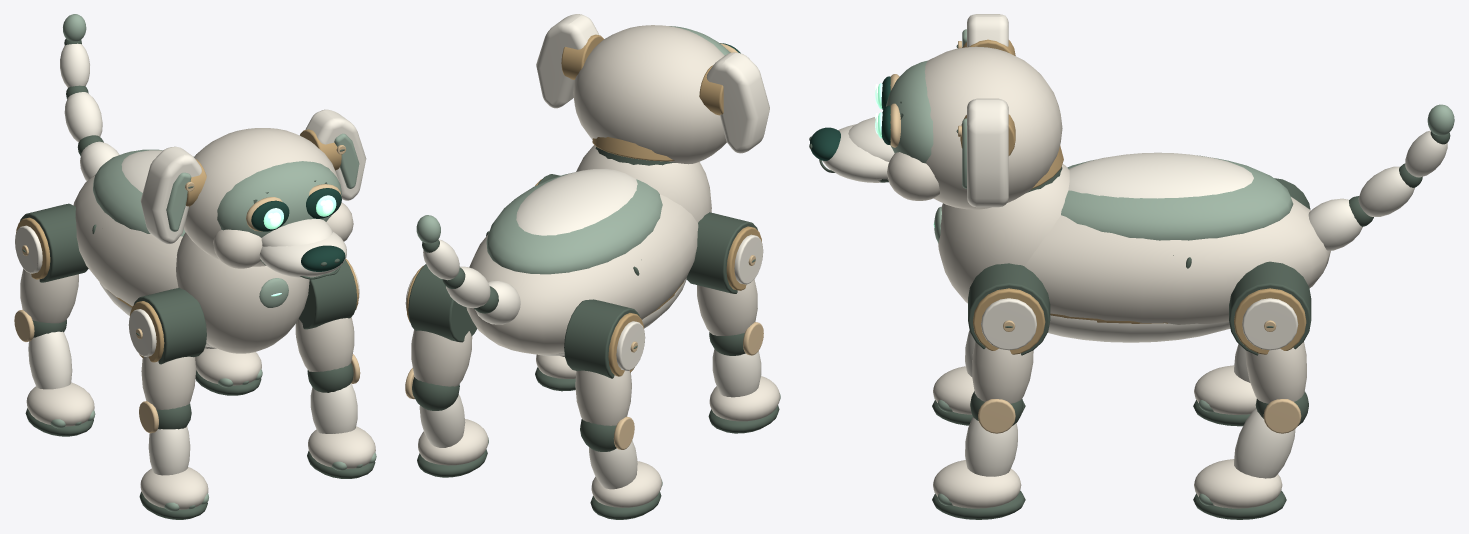
Rendered from robot-dog.glb.
3 views of the same model, side by side, from view 1: azimuth 30°, elevation 25°; view 2: azimuth 150°, elevation 25°; view 3: azimuth 270°, elevation 25° (orthographic). The views are drawn at different scales.
Visible parts, largest first — view 1: Padded breastplate, Porcelain chassis, Porcelain skull, Eucalyptus visor surround, Hip bearing, Floppy ear shell, Hip bearing.001, Eucalyptus saddle inlay, Porcelain thigh.002, Hip bearing.002, Porcelain thigh, Porcelain thigh.001 (+36 smaller); view 2: Porcelain skull, Porcelain chassis, Eucalyptus saddle inlay, Porcelain saddle lid, Floppy ear shell, Padded breastplate, Hip bearing.001, Hip bearing.003, Floppy ear shell.001, Hip bearing, Porcelain thigh.003, Porcelain thigh.001 (+29 smaller); view 3: Porcelain chassis, Porcelain skull, Eucalyptus saddle inlay, Padded breastplate, Porcelain saddle lid, Floppy ear shell.001, Sculpted belly shell, Eucalyptus visor surround, Ceramic paw.003, Ceramic paw.002, Porcelain thigh.002, Porcelain thigh.003 (+22 smaller).
Part boxes in pixels (x1,y1,x2,y2): Padded breastplate: [176, 232, 309, 353]; Porcelain chassis: [73, 174, 182, 306]; Porcelain skull: [184, 128, 339, 266]; Eucalyptus visor surround: [217, 161, 341, 237]; Hip bearing: [134, 287, 206, 364]; Floppy ear shell: [140, 146, 201, 244]; Hip bearing.001: [20, 203, 88, 282]; Eucalyptus saddle inlay: [93, 149, 193, 236]; Porcelain thigh.002: [295, 317, 354, 371]; Hip bearing.002: [296, 259, 357, 329]; Porcelain thigh: [141, 356, 196, 409]; Porcelain thigh.001: [20, 268, 78, 323]; Porcelain skull: [573, 25, 726, 164]; Porcelain chassis: [466, 194, 698, 354]; Eucalyptus saddle inlay: [486, 172, 662, 274]; Porcelain saddle lid: [516, 169, 637, 235]; Floppy ear shell: [706, 52, 769, 153]; Padded breastplate: [576, 145, 711, 222]; Hip bearing.001: [564, 299, 640, 378]; Hip bearing.003: [408, 264, 477, 342]; Floppy ear shell.001: [536, 14, 598, 108]; Hip bearing: [686, 212, 757, 293]; Porcelain thigh.003: [411, 329, 472, 386]; Porcelain thigh.001: [575, 370, 631, 425]; Porcelain chassis: [1024, 197, 1330, 324]; Porcelain skull: [924, 46, 1062, 209]; Eucalyptus saddle inlay: [1061, 155, 1293, 240]; Padded breastplate: [938, 164, 1069, 303]; Porcelain saddle lid: [1068, 152, 1253, 198]; Floppy ear shell.001: [967, 98, 1008, 207]; Sculpted belly shell: [1048, 315, 1230, 342]; Eucalyptus visor surround: [886, 60, 933, 163]; Ceramic paw.003: [1194, 459, 1282, 508]; Ceramic paw.002: [933, 460, 1021, 508]; Porcelain thigh.002: [972, 342, 1033, 403]; Porcelain thigh.003: [1245, 342, 1306, 403].
Size of the model in its own units: 0.676 by 1.03 by 1.47.
